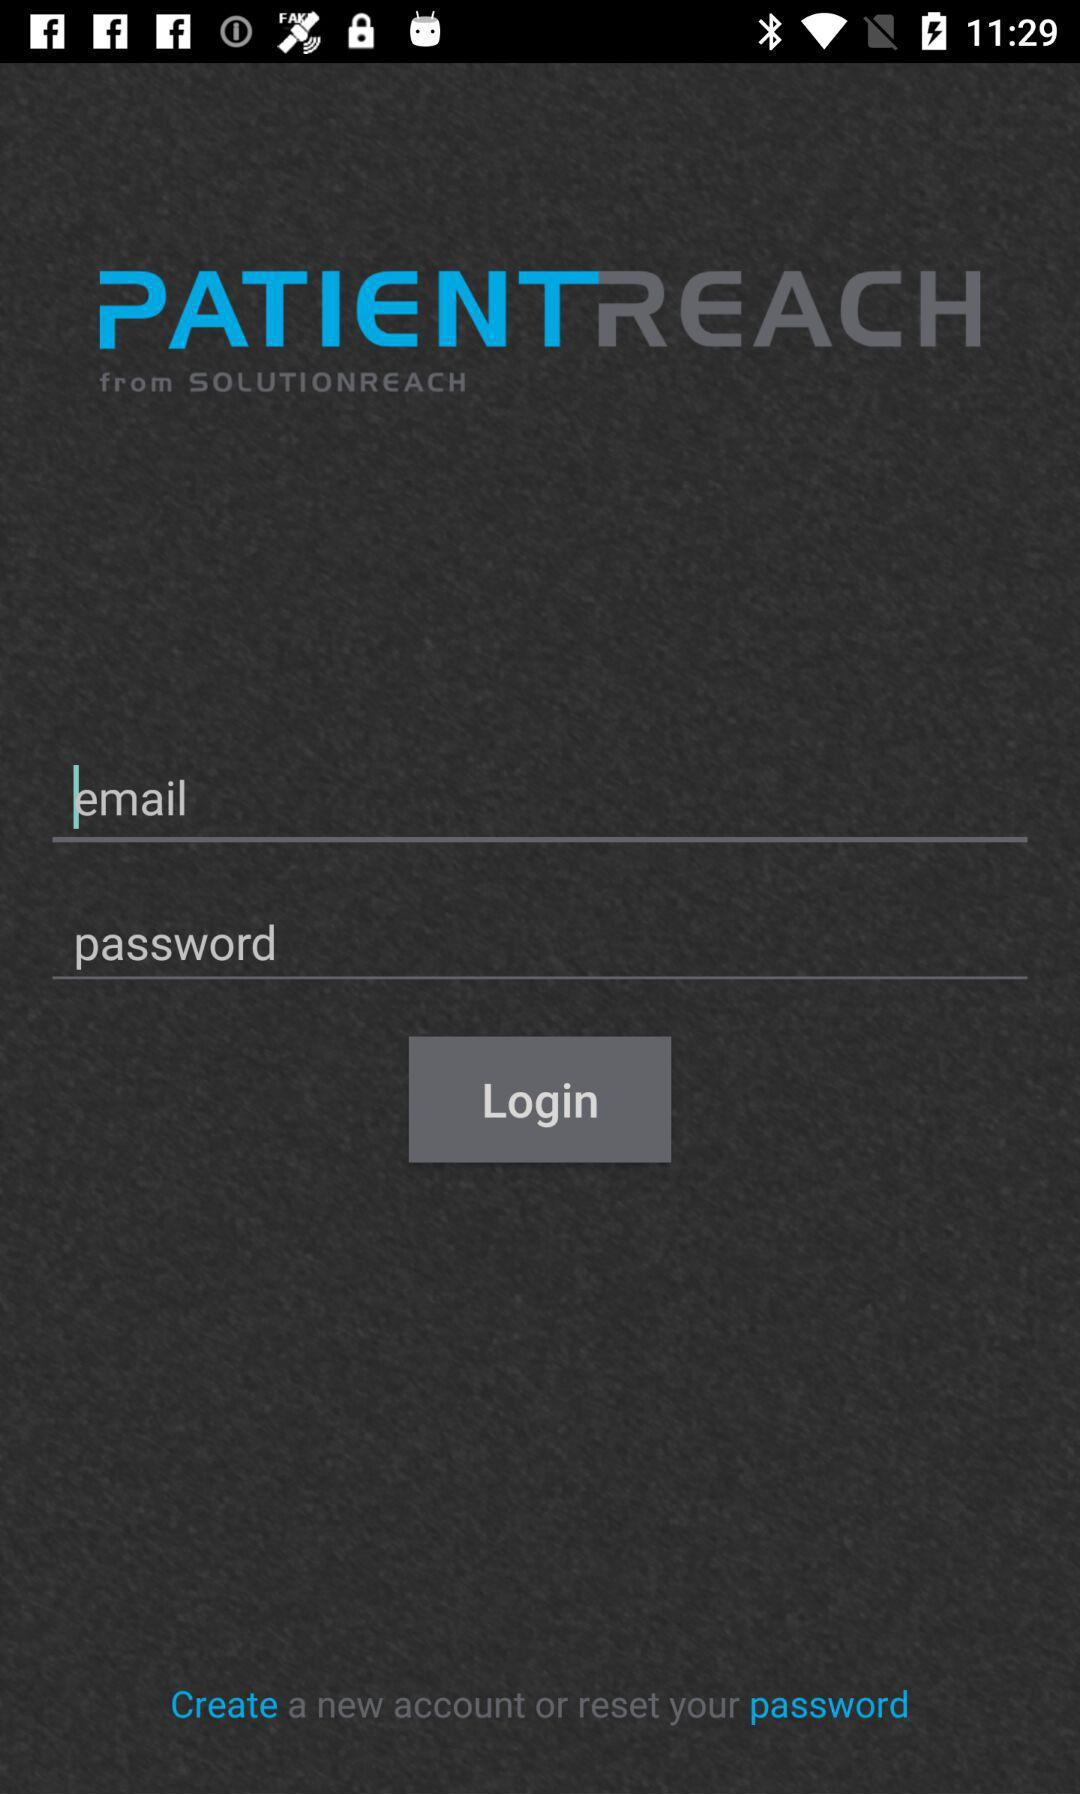EditText: (53, 764, 1029, 844), (53, 923, 1029, 982)
Image: (99, 270, 983, 395)
Text: (170, 1689, 910, 1727), (76, 923, 275, 973), (78, 779, 187, 818)
TextButton: (409, 1035, 673, 1164)
UpperTaskBar: (1, 1, 1080, 64)
